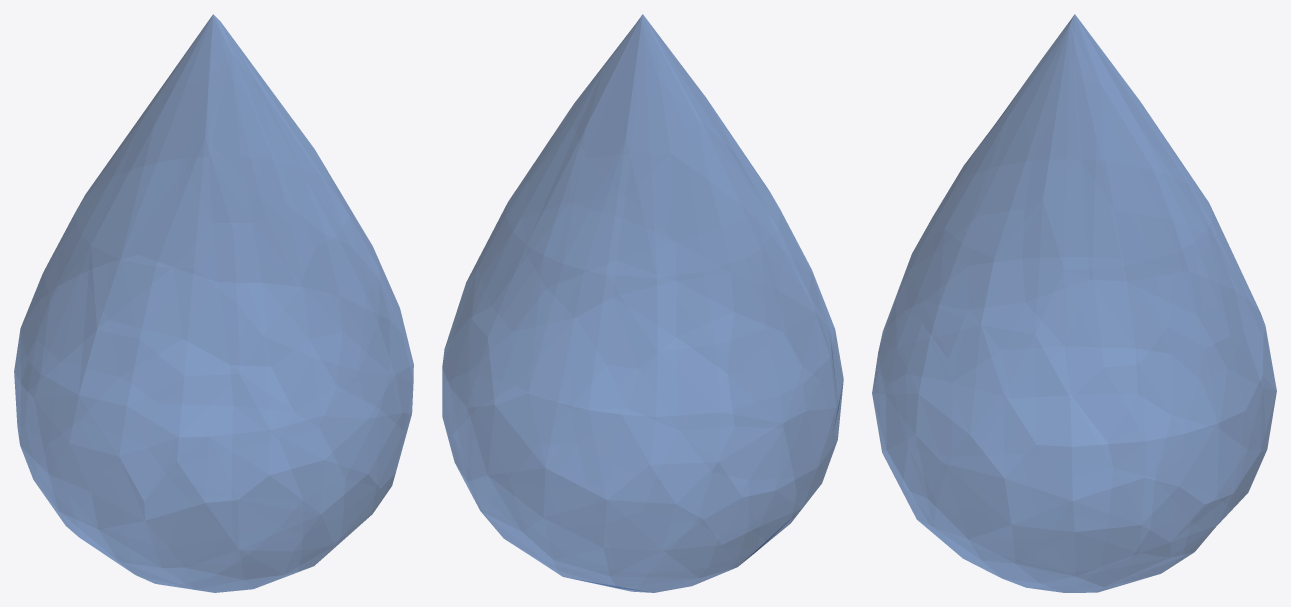
Rendered from WaterCrystal.fbx.
3 renders of one model, left to right at view 1: azimuth 30°, elevation 25°; view 2: azimuth 150°, elevation 25°; view 3: azimuth 270°, elevation 25°, orthographic.
Visible parts, largest first — view 1: pSphere1; view 2: pSphere1; view 3: pSphere1.
Boxes of the visible parts, x1,y1,x2,y2 form: pSphere1: [14, 14, 413, 592]; pSphere1: [442, 14, 843, 592]; pSphere1: [872, 14, 1276, 592].
Bounding box in the file's own units: 3.39 × 5.23 × 3.42.
